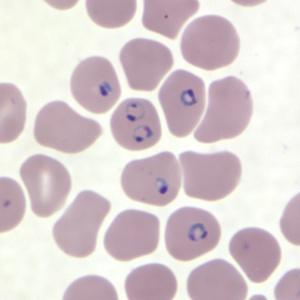Infected: (121, 150, 181, 208), (159, 69, 206, 138), (165, 206, 222, 262), (110, 97, 161, 152)
Uninfected: (49, 189, 110, 258), (193, 76, 252, 143), (33, 102, 104, 155), (181, 16, 241, 71), (19, 154, 71, 217), (227, 226, 283, 283), (70, 57, 125, 115), (181, 150, 242, 201), (105, 210, 160, 262), (119, 39, 174, 91), (189, 257, 248, 300), (125, 264, 178, 300)
